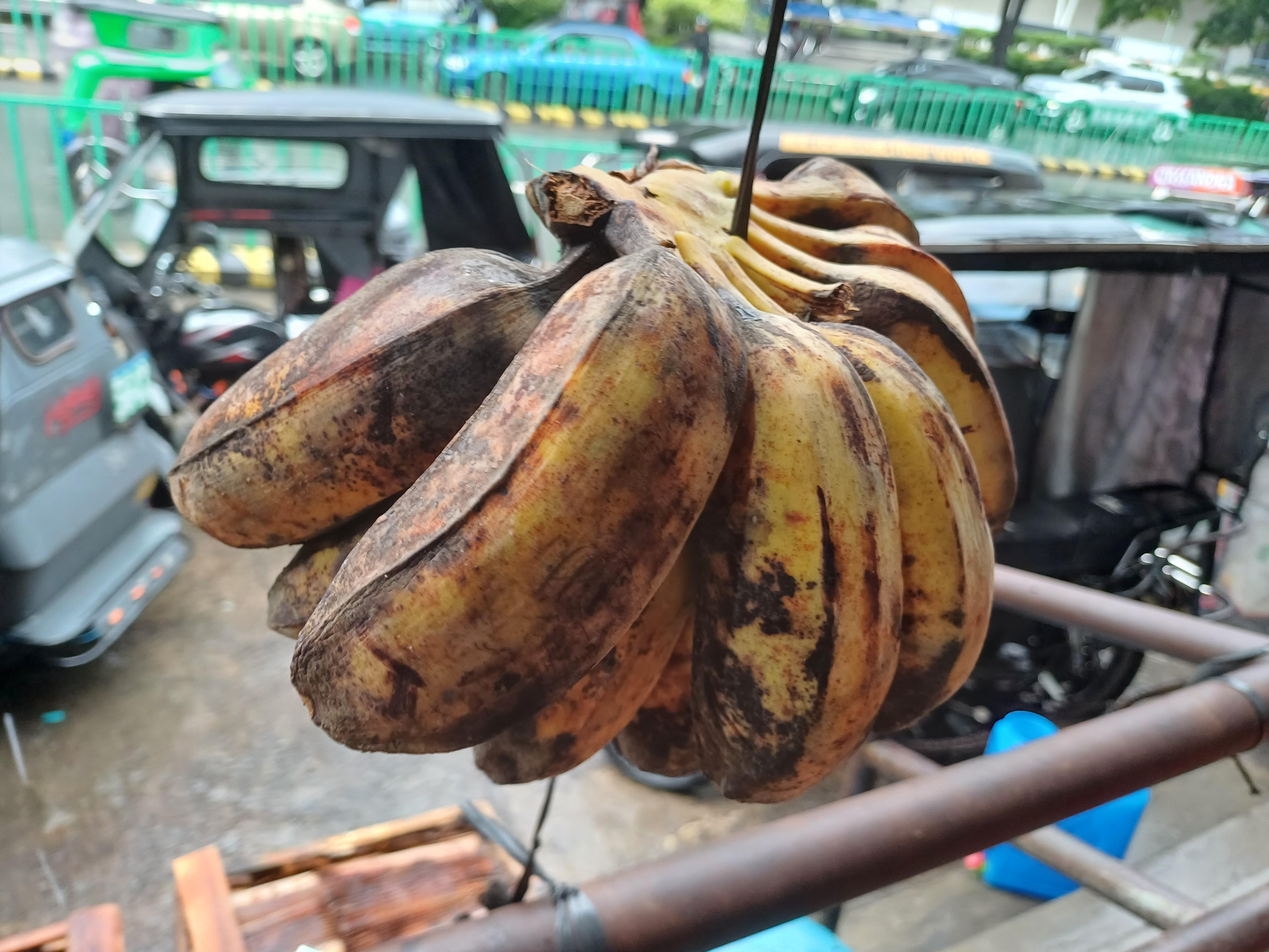ripe: (168, 152, 1022, 808)
